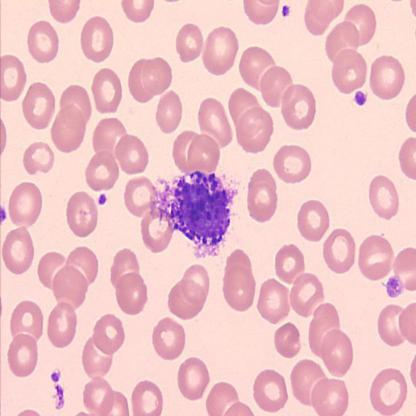Basophil: (168, 170, 234, 250)
